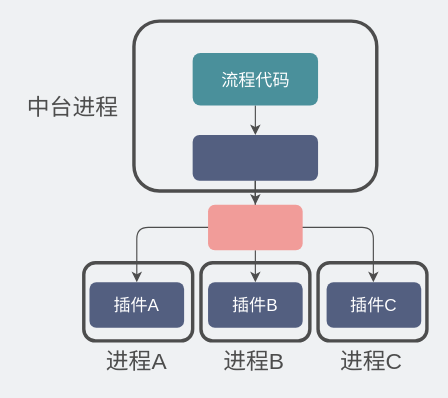
Some shapes in this 448 by 398 pixel diagram are drawn without their labels. Here are the shapes that lost their labels. From the top down, the centre of each, then its label:
At (254,157): "业务插件类".
At (254,227): "UDS".
